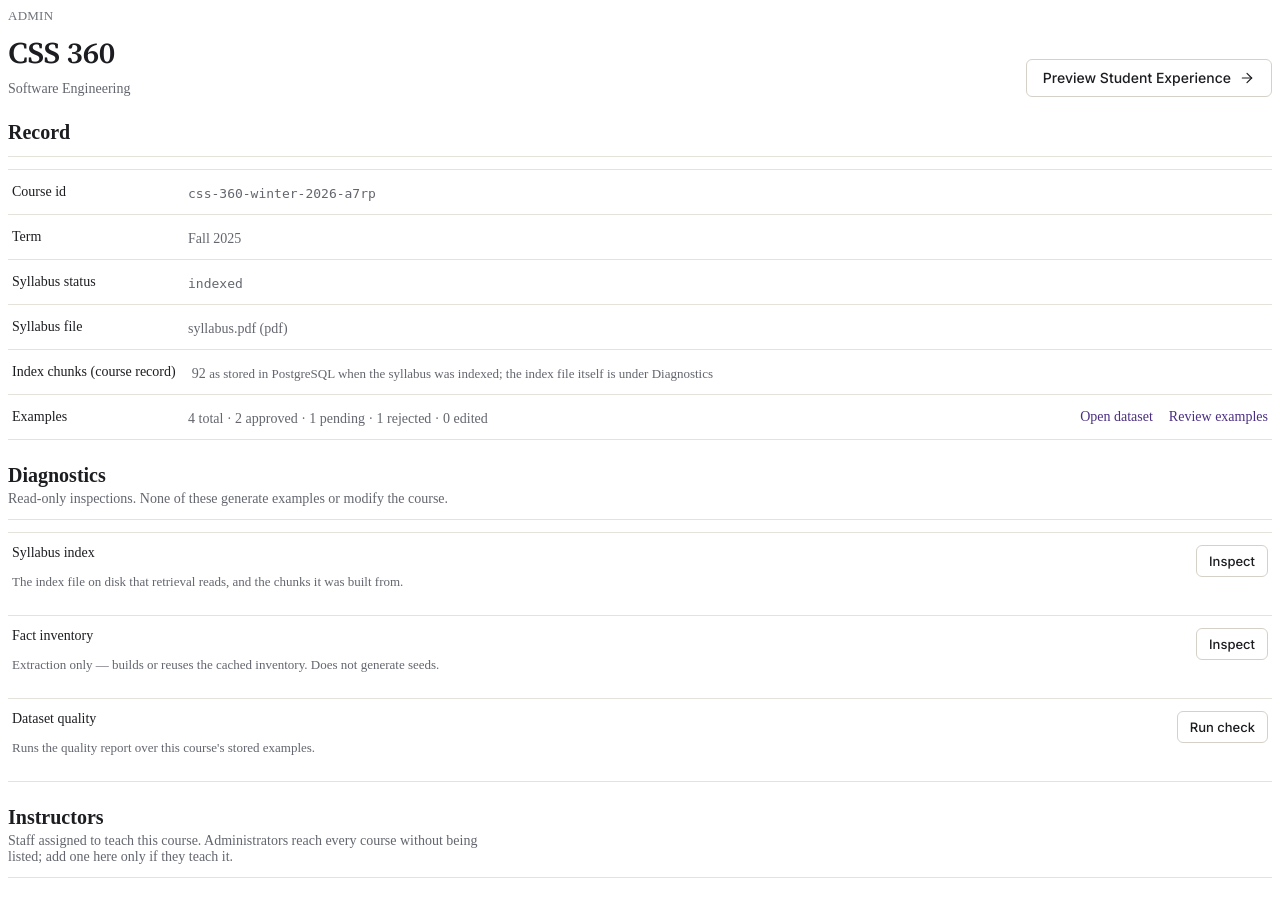
Test case: AdminCourseDetailPage syllabus index › expands to the first 12 chunks and collapses again
This screenshot has width=1280, height=900.
Click the button "Inspect" in the row of "Syllabus index" at [1232, 561], box left=1196, top=545, right=1268, bottom=577
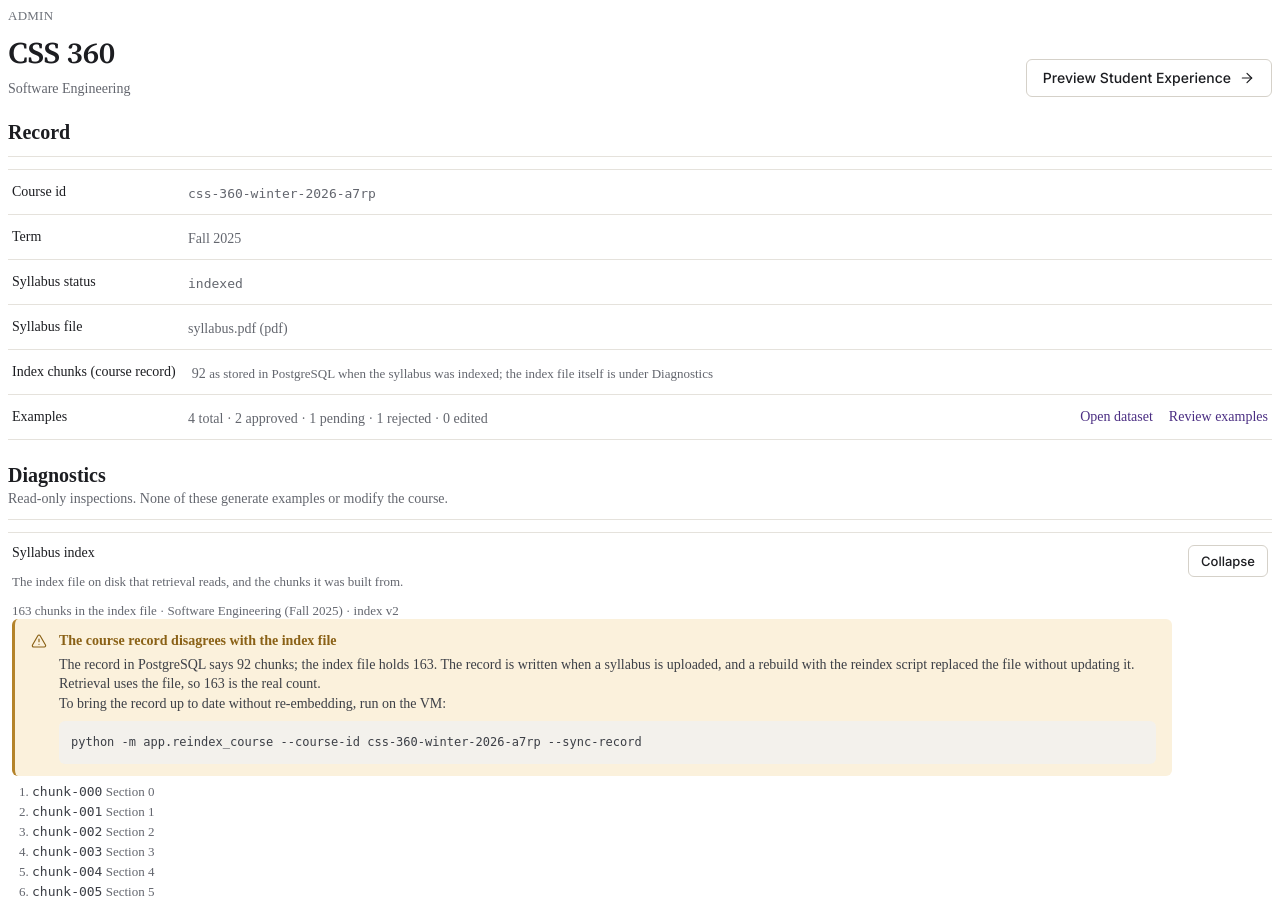
Expected: the list item "Syllabus index" shows "Software Engineering (Fall 2025)", left=157, top=603, right=343, bottom=618
Expected: the list item "Syllabus index" shows "index v2", left=343, top=603, right=399, bottom=618
Expected: the button "Collapse" is expanded
Click the button "Collapse" at [1228, 561], box left=1188, top=545, right=1268, bottom=577
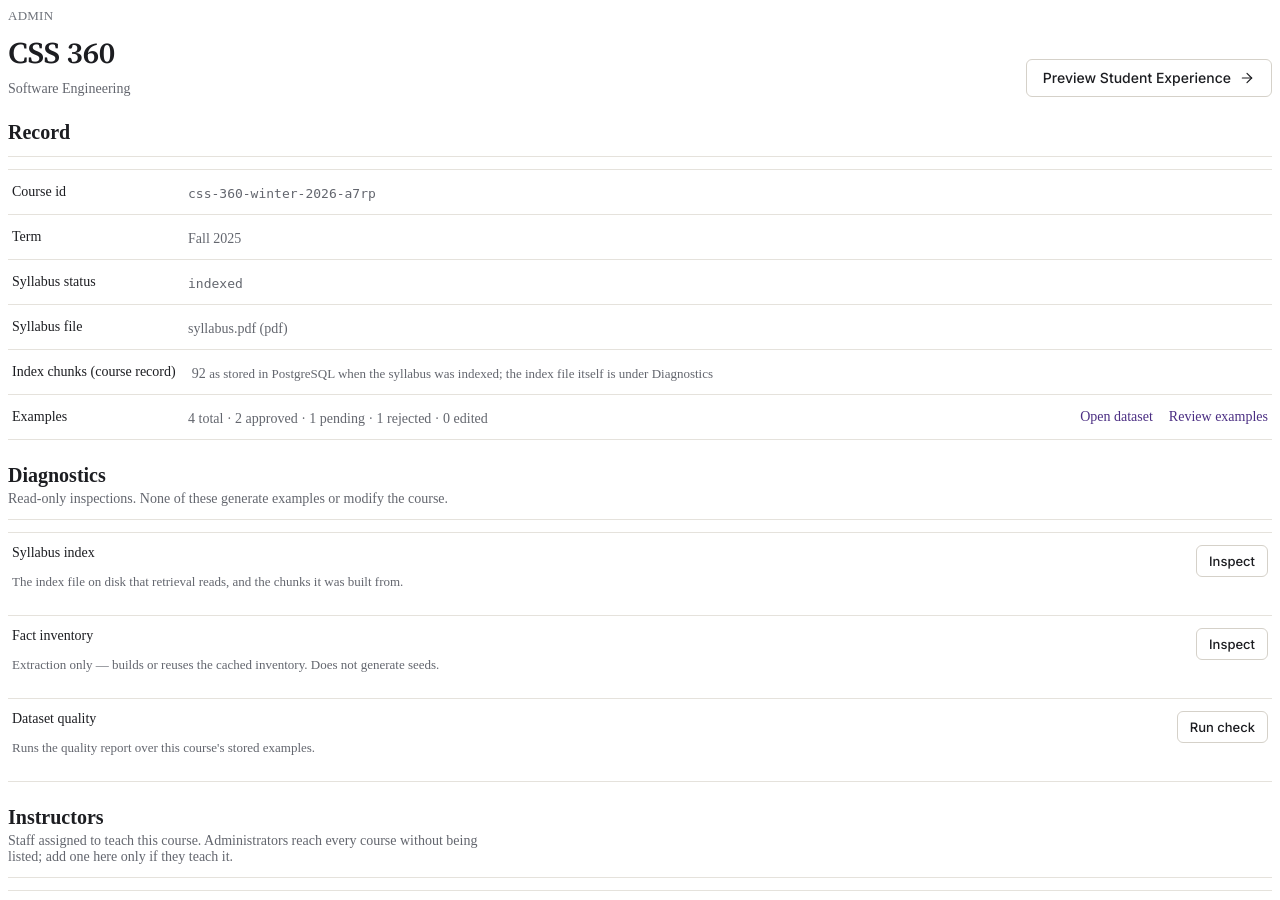
Expected: the button "Inspect" in the row of "Syllabus index" is enabled, left=1196, top=545, right=1268, bottom=577
Expected: no the list item "chunk-000 Section 0" are shown
Expected: the list item "Syllabus index" no longer shows "163 chunks", left=8, top=533, right=1272, bottom=616
